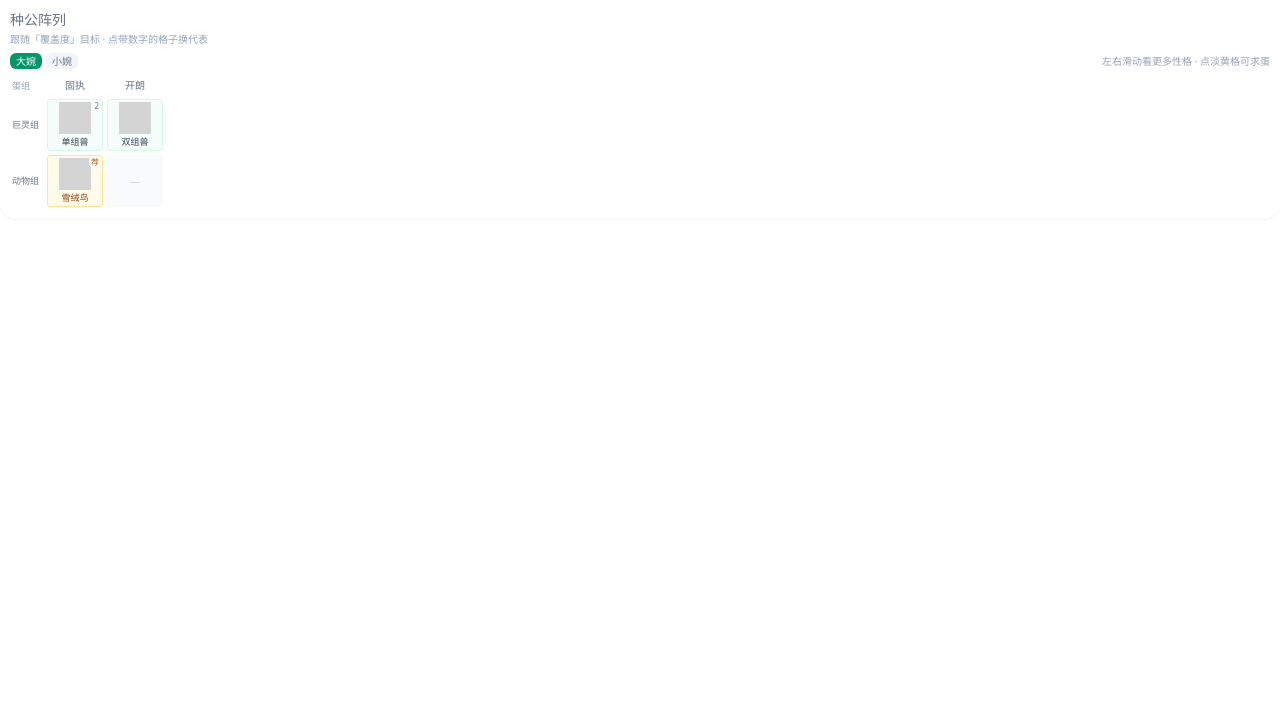
Test case: StudMatrix › 点淡黄推荐格可以直接发到小组需求中心（负数蛋组 id + 当前档位）
This screenshot has width=1280, height=720.
Click the button with test id "stud-cell-recommend-6-固执" at (75, 181), box x1=47 y1=155 x2=103 y2=207
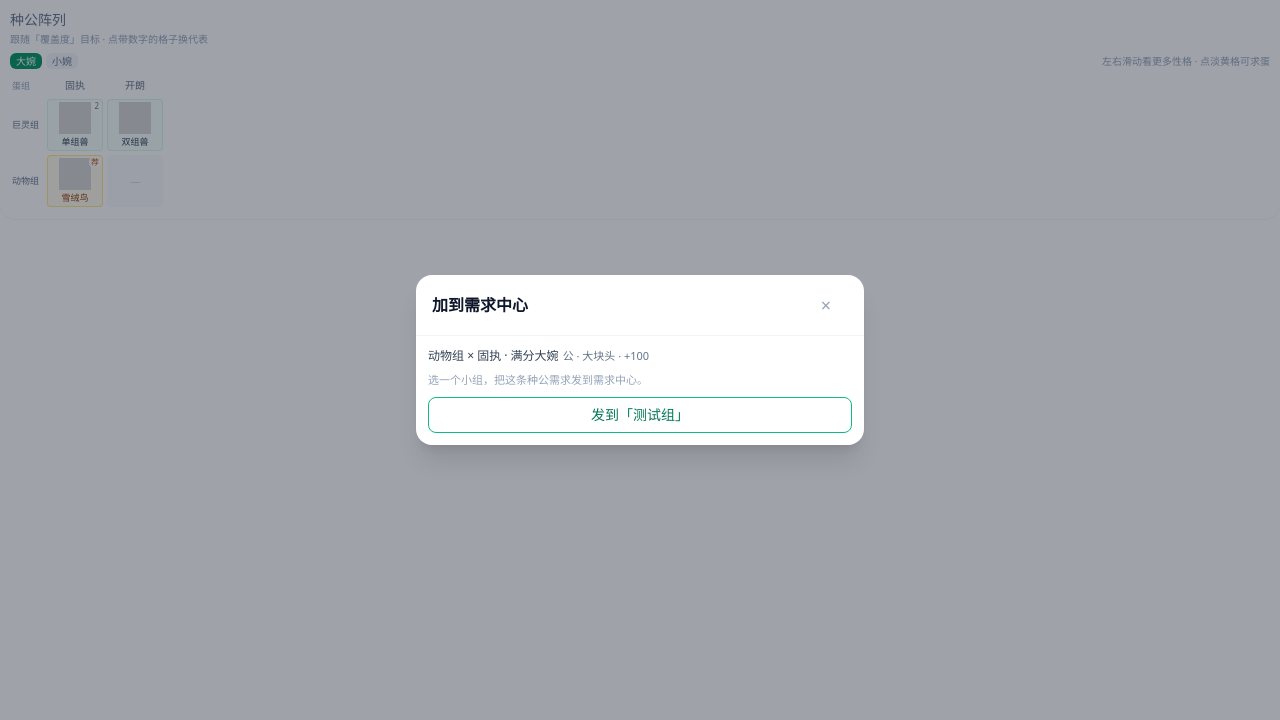
Now the element with test id "stud-demand-publish" is shown
Now the element with test id "stud-demand-publish-summary" shows "动物组", box x1=428 y1=347 x2=464 y2=364
Now the element with test id "stud-demand-publish-summary" shows "固执", box x1=477 y1=347 x2=501 y2=364
Click the button with test id "stud-demand-publish-g1" at (640, 415), box x1=428 y1=397 x2=852 y2=433
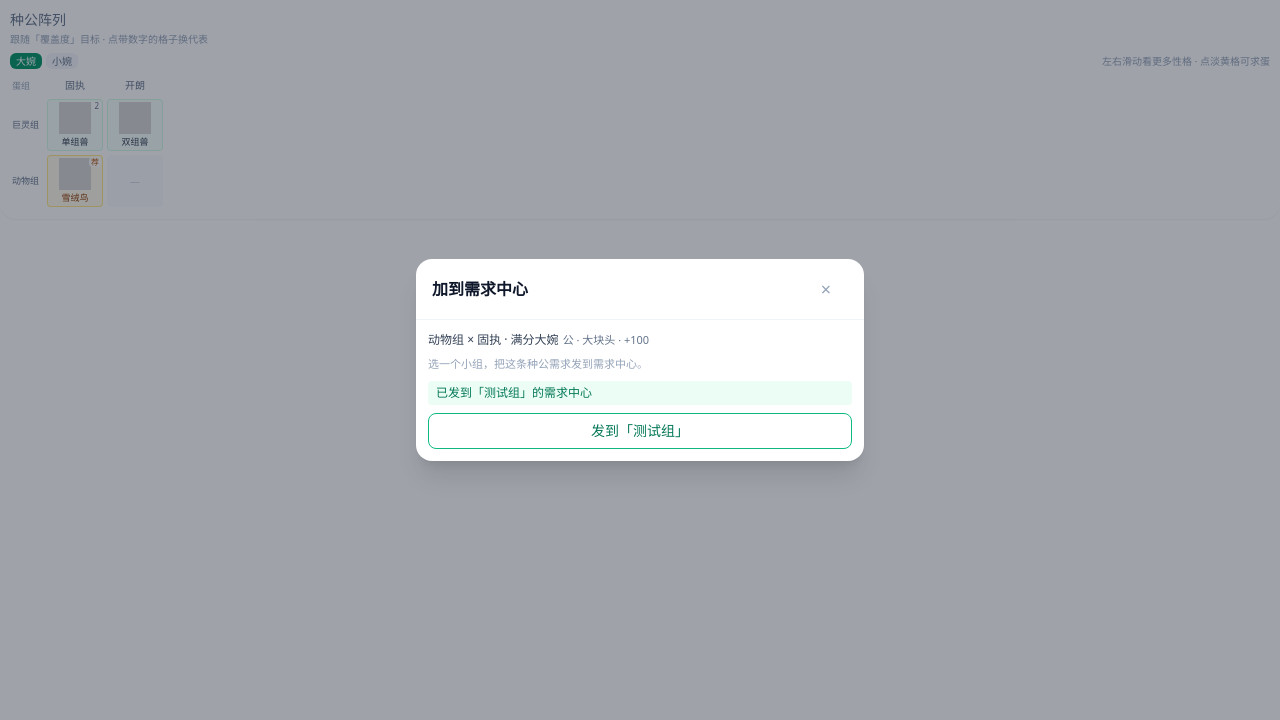
Now the text with test id "stud-demand-publish-message" shows "测试组", box x1=436 y1=384 x2=592 y2=401
